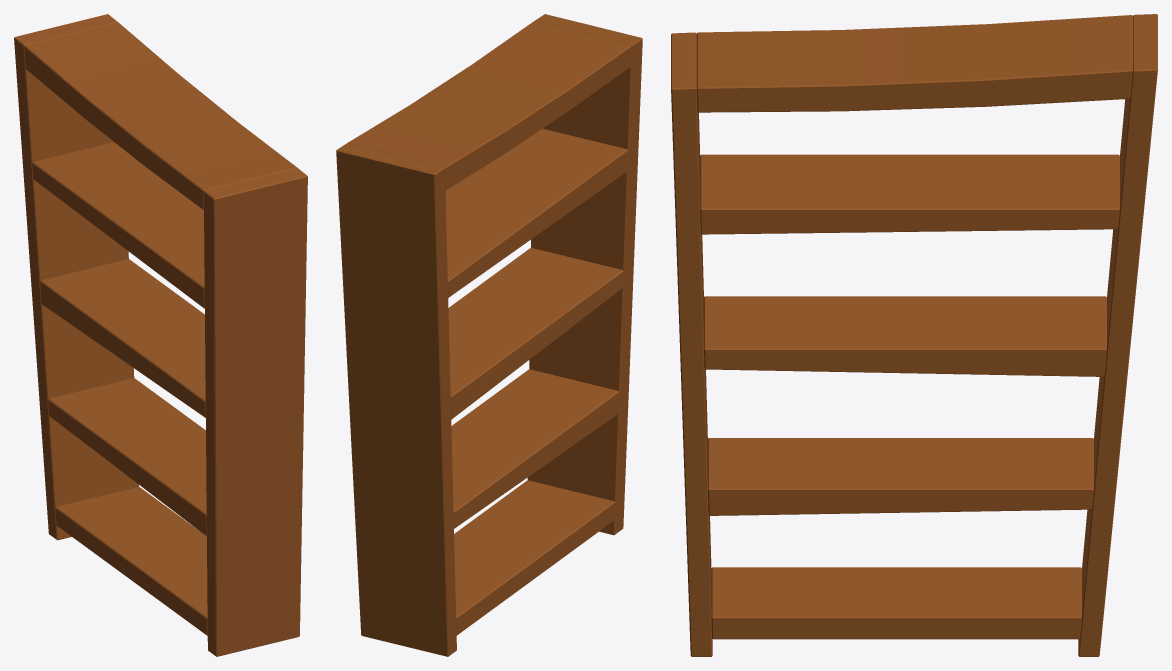
Rendered from Bookcase.fbx.
3 views of the same model, side by side, from view 1: azimuth 30°, elevation 25°; view 2: azimuth 150°, elevation 25°; view 3: azimuth 270°, elevation 25° (orthographic). The views are drawn at different scales.
Parts seen in each view (by area): view 1: Bookcase; view 2: Bookcase; view 3: Bookcase.
Boxes of the visible parts, box(x1,y1,x2,y2) form: Bookcase: box(14, 14, 307, 656); Bookcase: box(336, 14, 642, 656); Bookcase: box(671, 14, 1157, 656).
Size of the model in its own units: 0.486 by 2.36 by 1.77.
